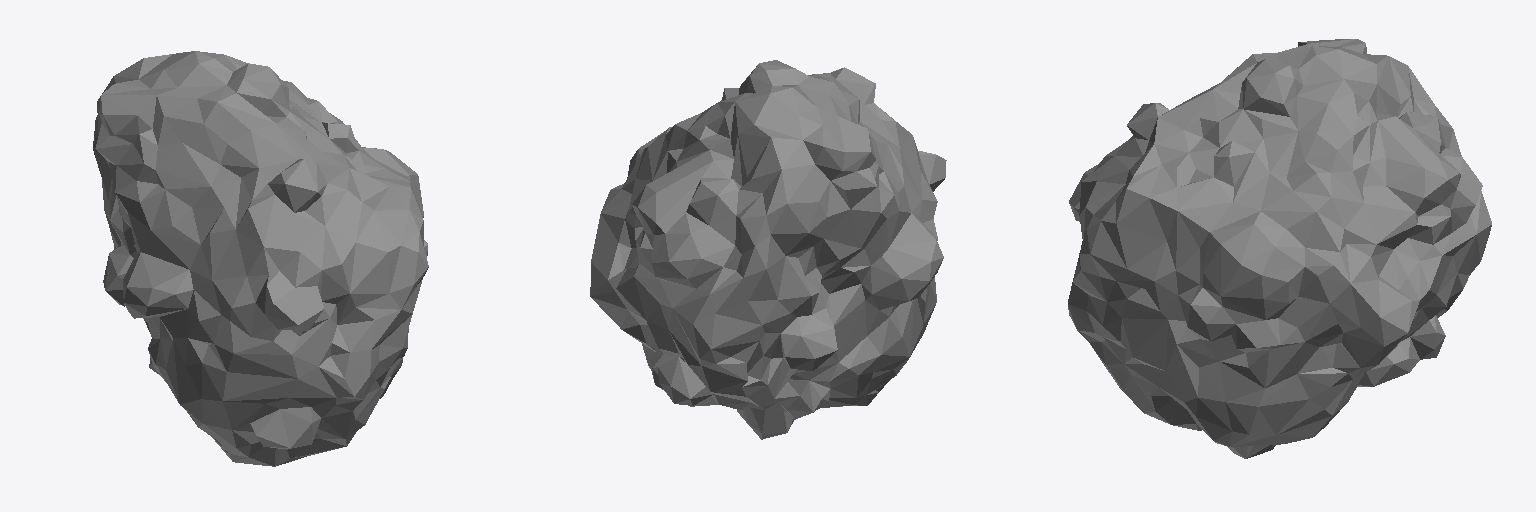
The model's file is Asteroid_3.obj.
3 views of the same model, side by side, from view 1: azimuth 30°, elevation 25°; view 2: azimuth 150°, elevation 25°; view 3: azimuth 270°, elevation 25° (orthographic).
Visible parts, largest first — view 1: Asteroid_3; view 2: Asteroid_3; view 3: Asteroid_3.
Boxes of the visible parts, x1,y1,x2,y2 form: Asteroid_3: [93, 51, 428, 466]; Asteroid_3: [590, 60, 946, 439]; Asteroid_3: [1068, 39, 1491, 458].
Bounding box in the file's own units: 58.56 × 72.79 × 73.25.